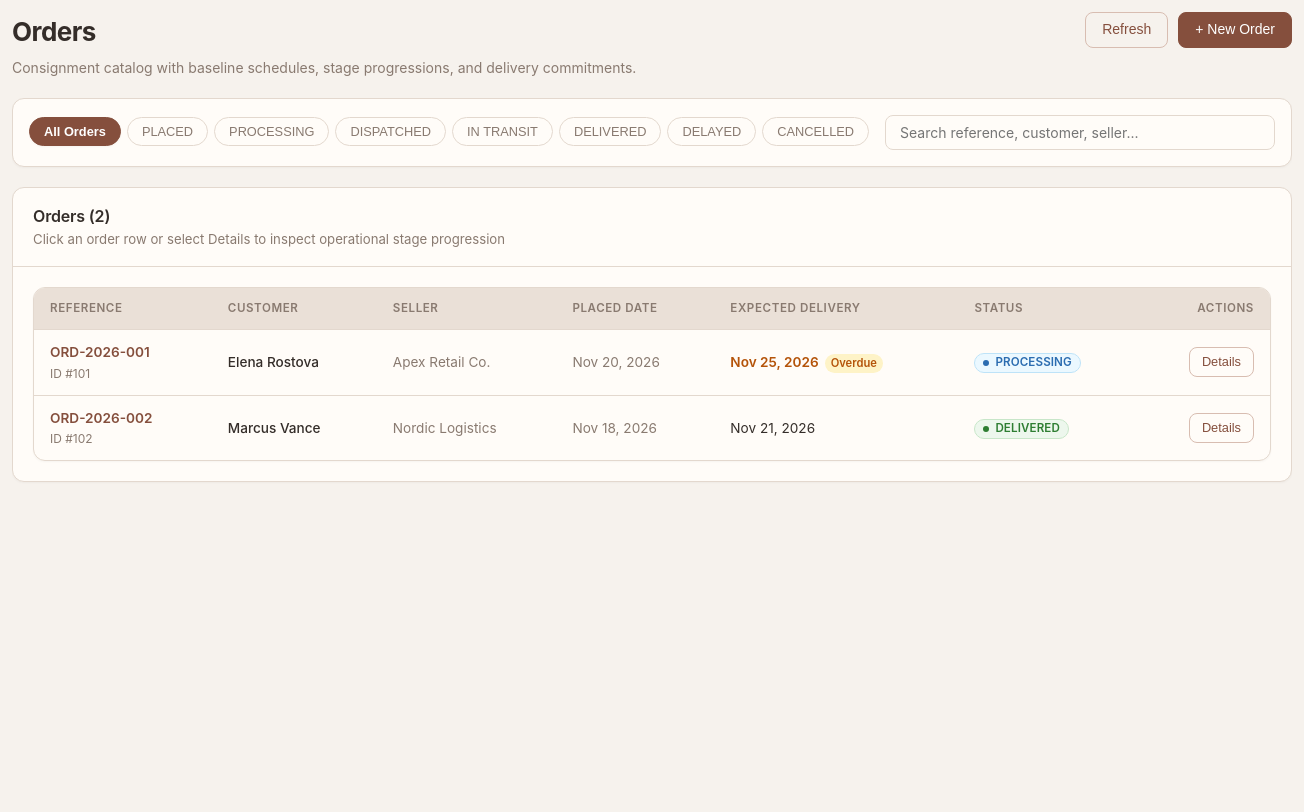
it: OrdersPage Component › displays EmptyState when no orders match search and provides reset action
This screenshot has width=1304, height=812.
expect the text "ORD-2026-001" is shown: met, box 50,344 -> 150,360
In the field with placeholder "Search reference, customer, seller...": x=1080, y=132 885,115 -> 1275,150, type "NON_EXISTENT_QUERY_xyz"
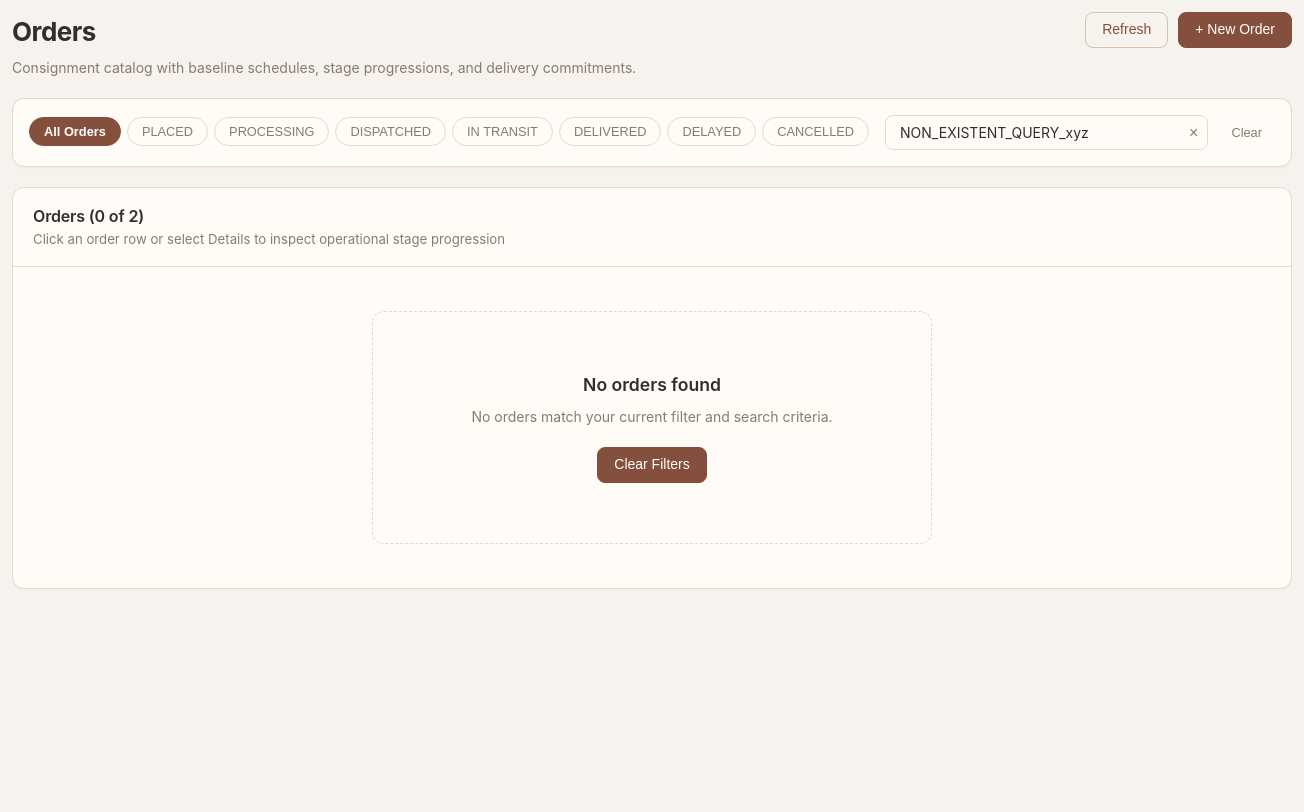
expect the heading "No orders found" is shown: met, box 583,372 -> 721,398
expect the button "Clear Filters" is shown: met
Click the button "Clear Filters": x=652, y=465 597,447 -> 707,483
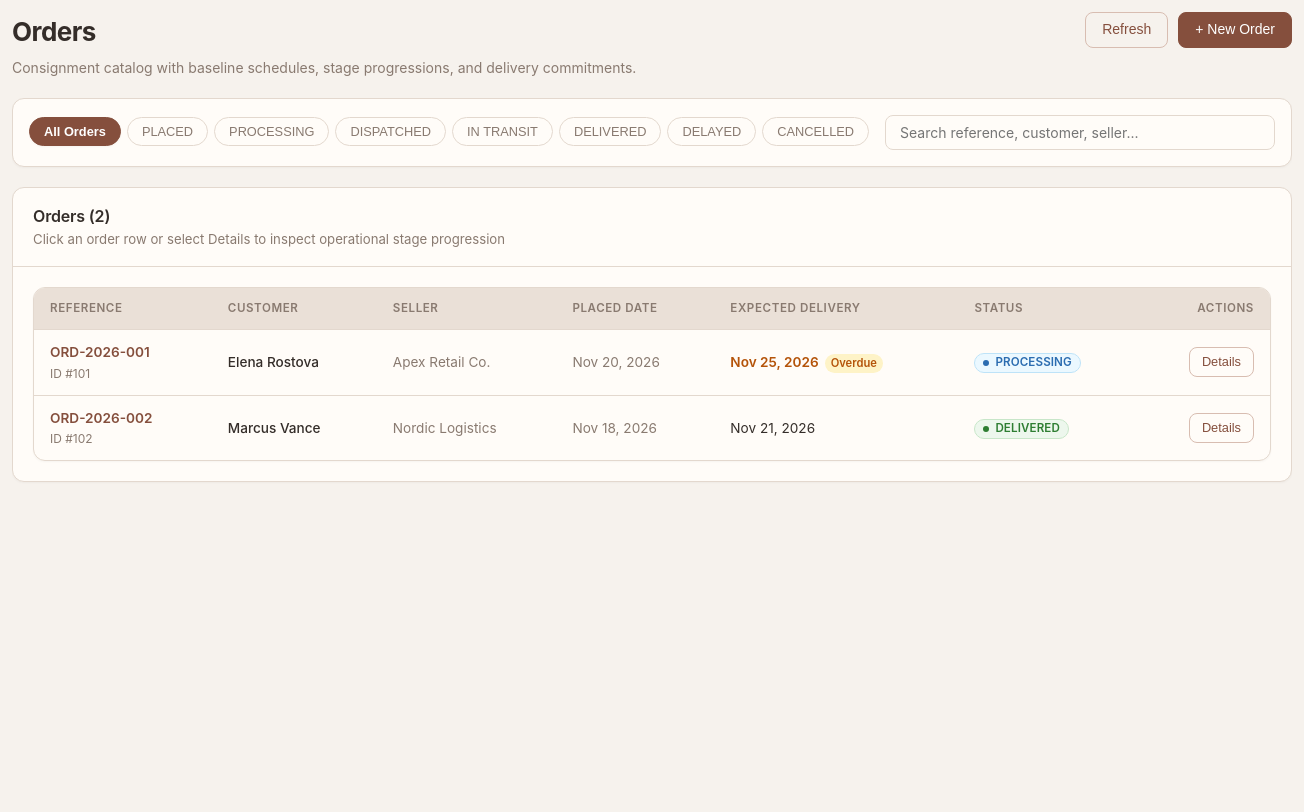
expect the text "ORD-2026-001" is shown: met, box 50,344 -> 150,360
